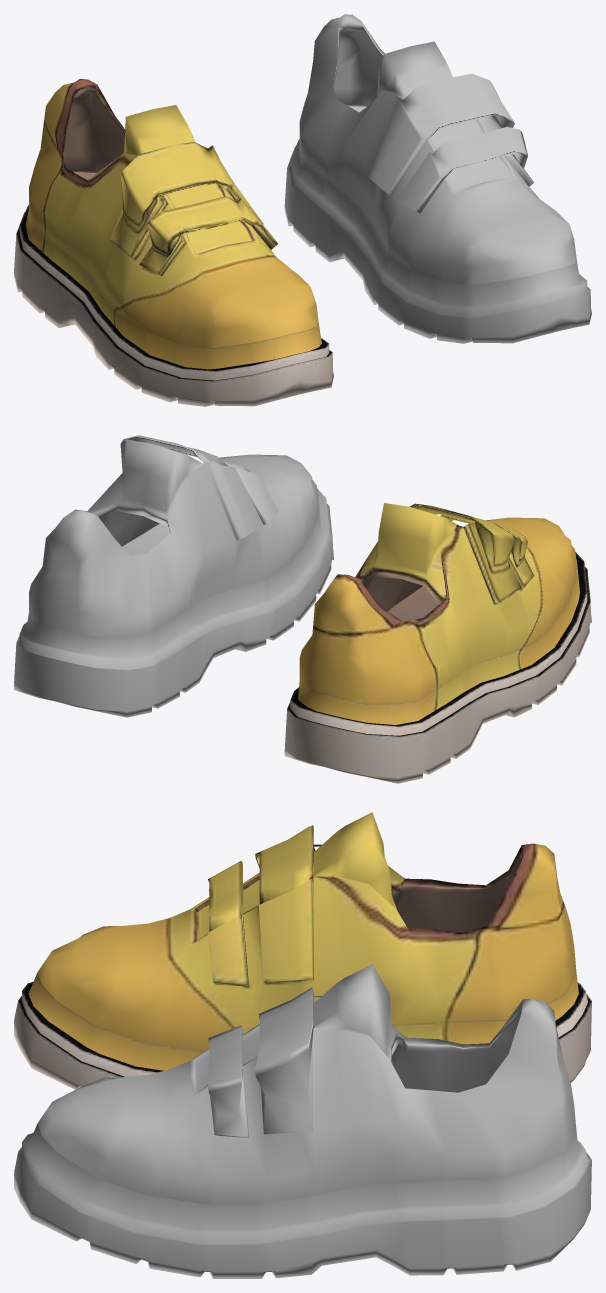
Rendered from sapatos.glb.
3 renders of one model, top to bottom at view 1: azimuth 30°, elevation 25°; view 2: azimuth 150°, elevation 25°; view 3: azimuth 270°, elevation 25°, orthographic. The views are drawn at different scales.
Visible parts, largest first — view 1: Zapato_der, Zapato_iz; view 2: Zapato_iz, Zapato_der; view 3: Zapato_iz, Zapato_der.
Part boxes in pixels (x1,y1,x2,y2): Zapato_der: [14, 78, 333, 406]; Zapato_iz: [284, 14, 591, 343]; Zapato_iz: [14, 435, 333, 717]; Zapato_der: [284, 503, 591, 783]; Zapato_iz: [14, 964, 591, 1278]; Zapato_der: [14, 812, 591, 1089].
Size of the model in its own units: 16.24 by 7.77 by 15.97.
Materials: 2 (1 with a texture image).
